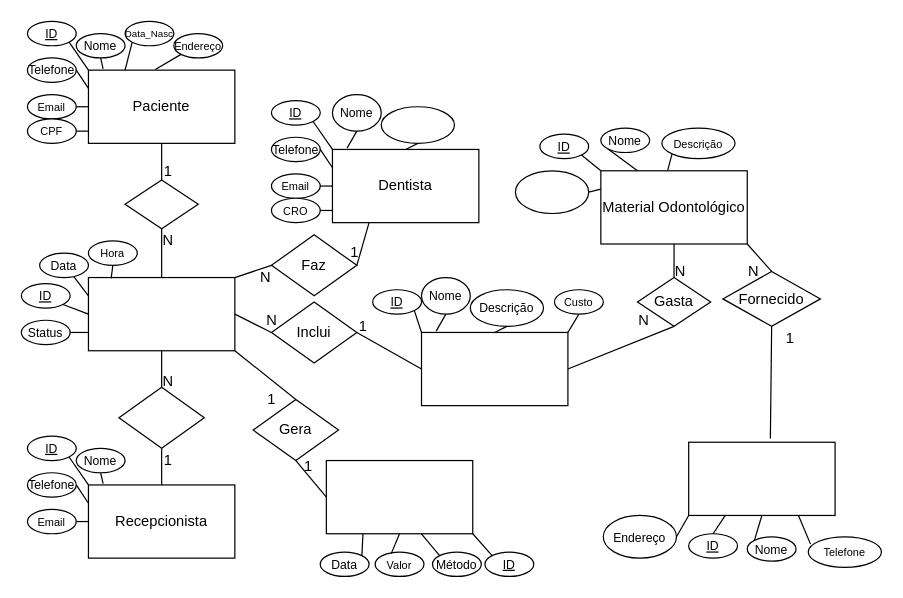
This 903x598 diagram has some shape labels left out. Here are the shapes that lost their labels. From the top down, the centre of each, then its label:
At (417,124): "Especialidade".
At (161,204): "Realiza".
At (551,192): "Quantidade".
At (161,313): "Consulta".
At (494,368): "Tratamento".
At (161,417): "É agendada".
At (399,496): "Pagamento".
At (761,478): "Fornecedor".
